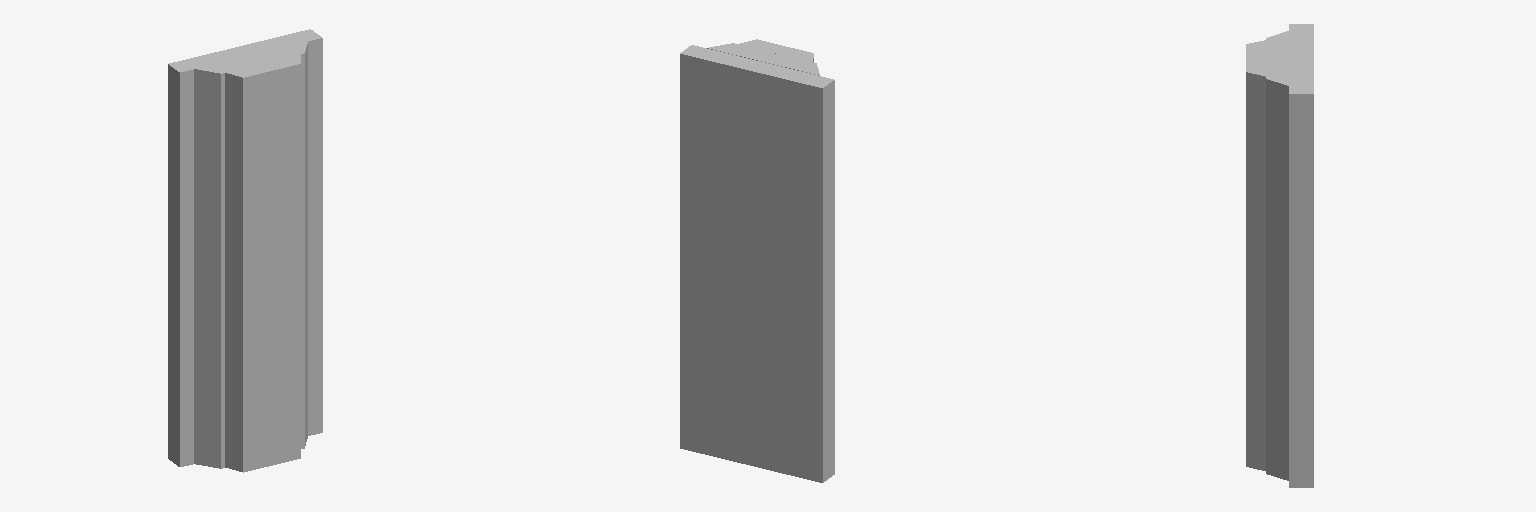
File: cosma8_door.obj
The picture shows the model from 3 angles: view 1: azimuth 30°, elevation 25°; view 2: azimuth 150°, elevation 25°; view 3: azimuth 270°, elevation 25°; orthographic projection.
Visible parts, largest first — view 1: Cube.003; view 2: Cube.003; view 3: Cube.003.
Part boxes in pixels (left/top/right/bottom): Cube.003: left=168, top=29, right=322, bottom=472; Cube.003: left=680, top=39, right=834, bottom=482; Cube.003: left=1246, top=24, right=1313, bottom=487.
Size of the model in its own units: 0.9939 by 2.63 by 0.4044.